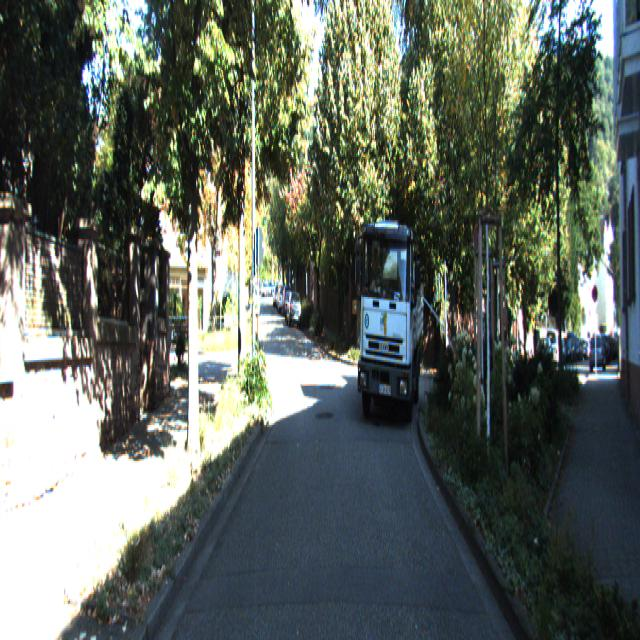Car: (356, 213, 424, 436), (589, 332, 606, 371), (288, 292, 302, 334)
